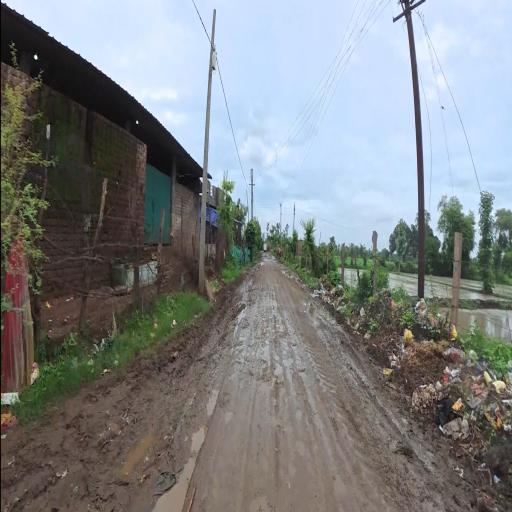pothole: (246, 283, 311, 430)
